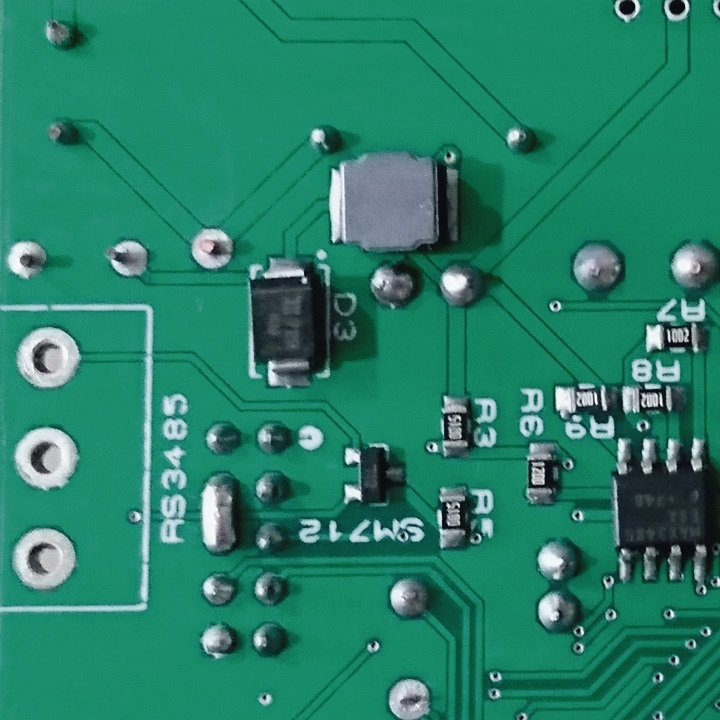F: (11, 423, 83, 495), (11, 324, 86, 393), (8, 526, 81, 595), (100, 233, 152, 282), (186, 224, 238, 272), (2, 238, 51, 283), (384, 675, 433, 720), (610, 1, 644, 29), (663, 1, 694, 26)
P: (196, 470, 242, 558)
